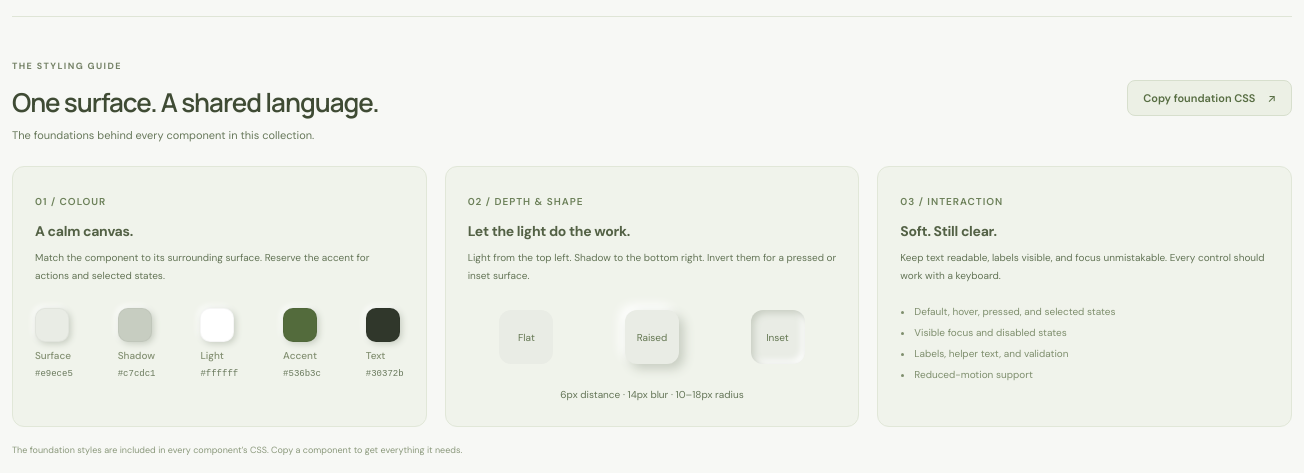
Styling guide › copies the same foundations shipped with component exports
Click the button "Copy foundation CSS ↗". click: [1210, 98]
box: x1=1127 y1=80 x2=1292 y2=116
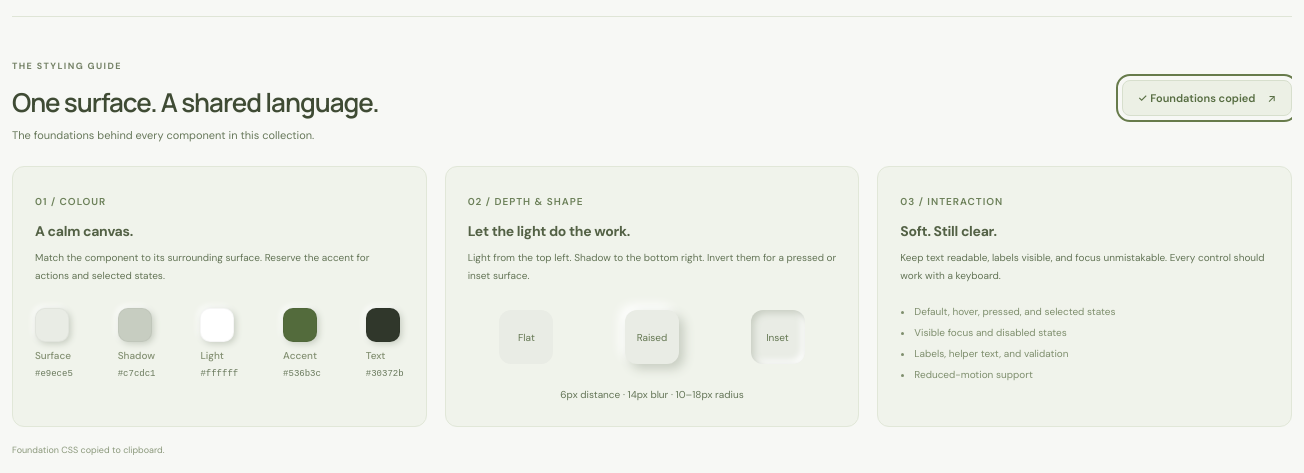
Now the message shows "Foundation CSS copied", box x1=12 y1=444 x2=164 y2=456
